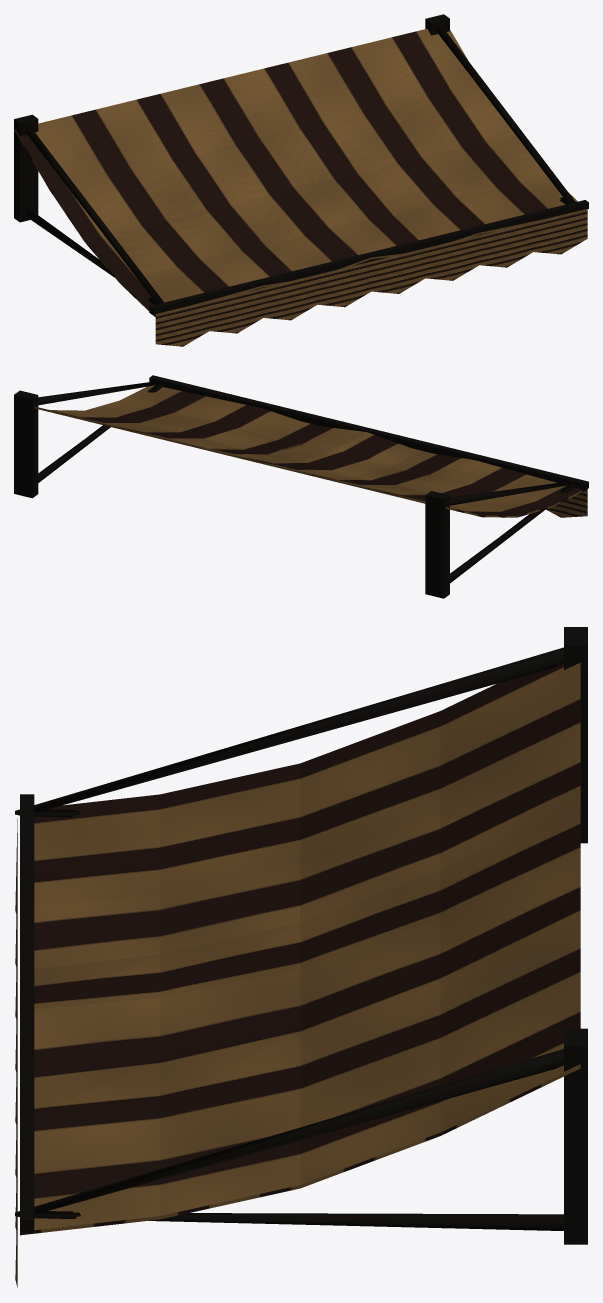
File: canvas_awning.glb
3 views of the same model, one above another, from view 1: azimuth 30°, elevation 25°; view 2: azimuth 150°, elevation 25°; view 3: azimuth 270°, elevation 25° (orthographic). The views are drawn at different scales.
Visible parts, largest first — view 1: canvas_awning; view 2: canvas_awning; view 3: canvas_awning.
Part boxes in pixels (bbox=[...]): canvas_awning: bbox=[14, 14, 588, 346]; canvas_awning: bbox=[14, 375, 588, 598]; canvas_awning: bbox=[15, 627, 587, 1287].
Size of the model in its own units: 2.12 by 0.6 by 1.21.
Materials: 1 (1 with a texture image).
